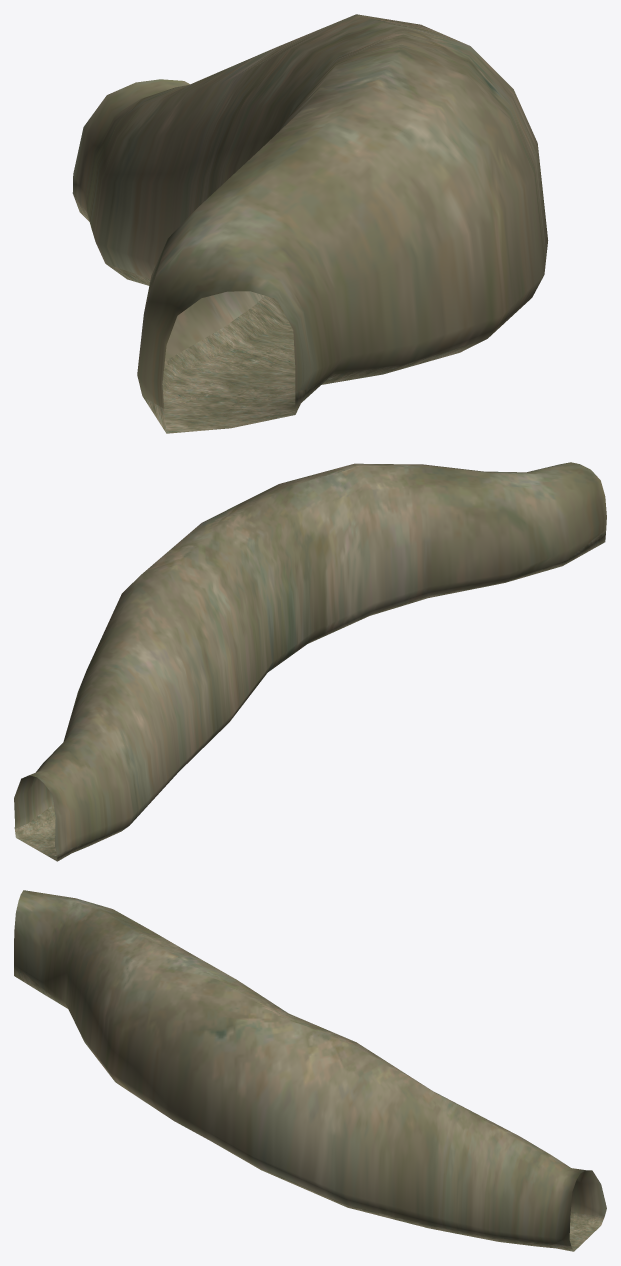
File: EKH_JAIL_PS_JA_GR_LINE170.fbx
3 views of the same model, one above another, from view 1: azimuth 30°, elevation 25°; view 2: azimuth 150°, elevation 25°; view 3: azimuth 270°, elevation 25° (orthographic). The views are drawn at different scales.
Visible parts, largest first — view 1: EKH_JAIL_PS_JA_GR_LINE170; view 2: EKH_JAIL_PS_JA_GR_LINE170; view 3: EKH_JAIL_PS_JA_GR_LINE170.
Part boxes in pixels (<box>): EKH_JAIL_PS_JA_GR_LINE170: <box>72,14,548,433</box>; EKH_JAIL_PS_JA_GR_LINE170: <box>14,462,606,861</box>; EKH_JAIL_PS_JA_GR_LINE170: <box>14,890,606,1251</box>.
Size of the model in its own units: 131850 by 92635 by 207471.
Materials: 1 (1 with a texture image).
